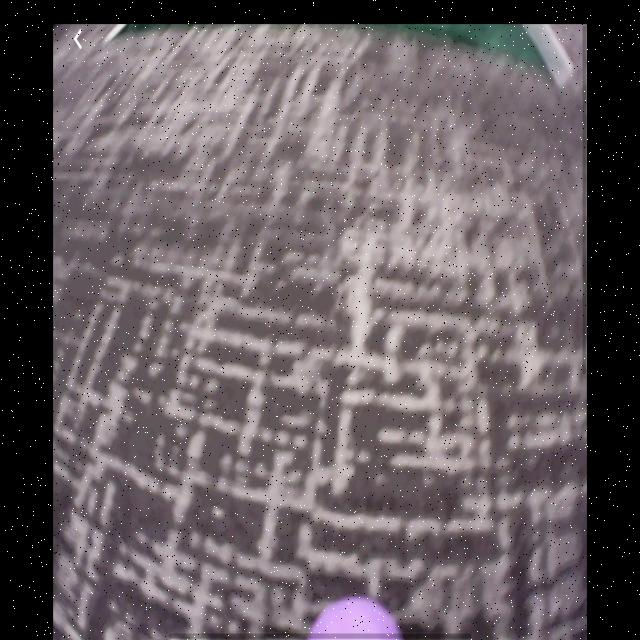ball: (306, 594, 401, 640)
